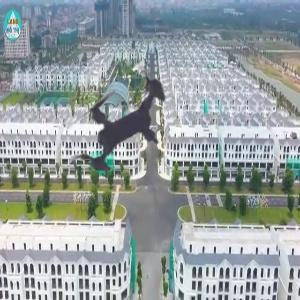drone: (25, 32, 218, 225)
